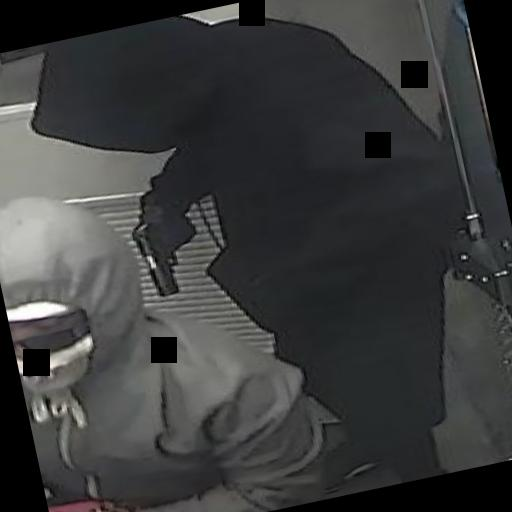Handgun: (122, 197, 216, 303)
